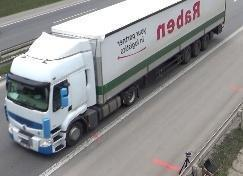truck: (5, 0, 225, 155)
